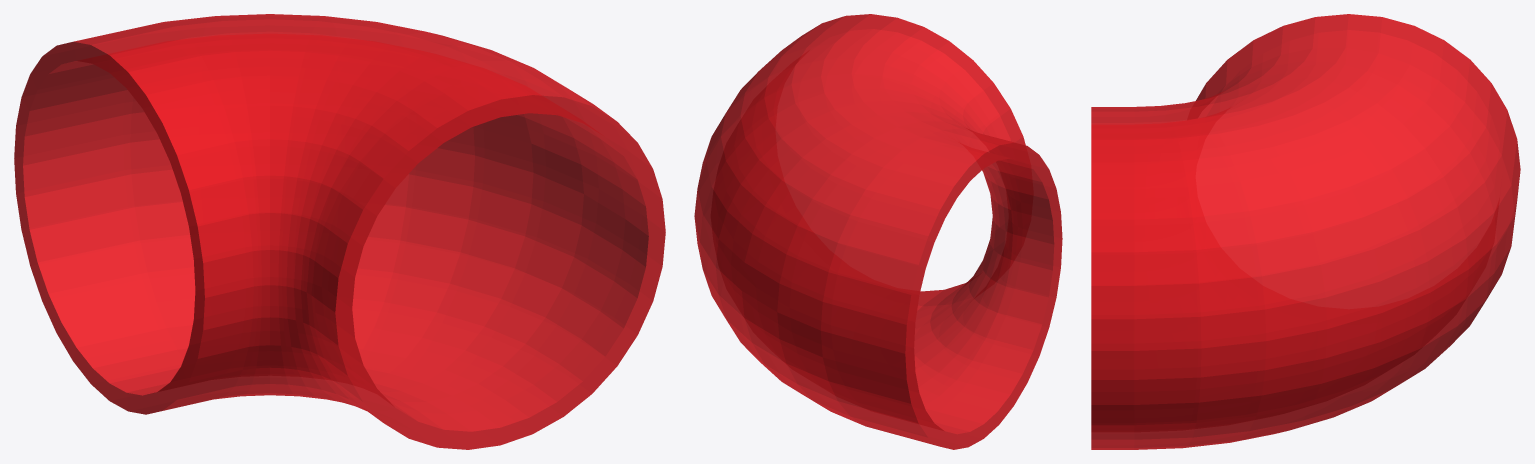
File: ghost2.fbx
3 renders of one model, left to right at view 1: azimuth 30°, elevation 25°; view 2: azimuth 150°, elevation 25°; view 3: azimuth 270°, elevation 25°, orthographic. The views are drawn at different scales.
Visible parts, largest first — view 1: TunnelTurn; view 2: TunnelTurn; view 3: TunnelTurn.
Boxes of the visible parts, x1,y1,x2,y2 form: TunnelTurn: (14,14,665,449); TunnelTurn: (694,14,1062,449); TunnelTurn: (1091,14,1520,449).
Size of the model in its own units: 10.02 by 8 by 10.
